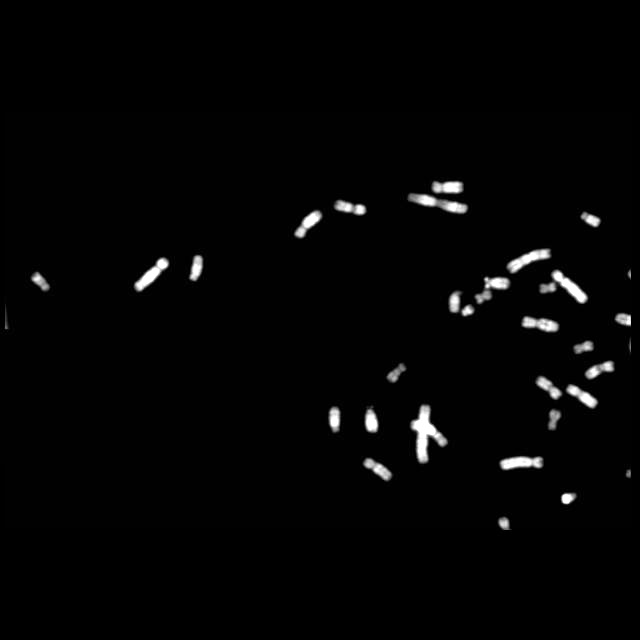chromosome: (134, 258, 170, 292), (552, 270, 588, 304), (408, 193, 468, 213), (506, 248, 552, 274), (410, 419, 448, 447), (294, 210, 322, 240), (417, 406, 431, 464), (566, 384, 598, 408), (363, 458, 392, 480), (500, 456, 544, 470), (521, 316, 559, 332), (584, 360, 614, 380), (334, 199, 366, 217), (536, 375, 560, 399), (31, 271, 50, 293), (432, 182, 463, 194), (189, 255, 203, 281), (484, 276, 510, 290), (328, 407, 342, 433), (388, 363, 406, 383), (449, 290, 463, 314), (364, 408, 378, 432), (581, 211, 601, 227), (574, 340, 594, 354), (548, 410, 560, 430), (561, 491, 577, 505), (540, 283, 556, 295), (476, 292, 492, 304), (462, 305, 476, 317), (498, 516, 510, 528)
